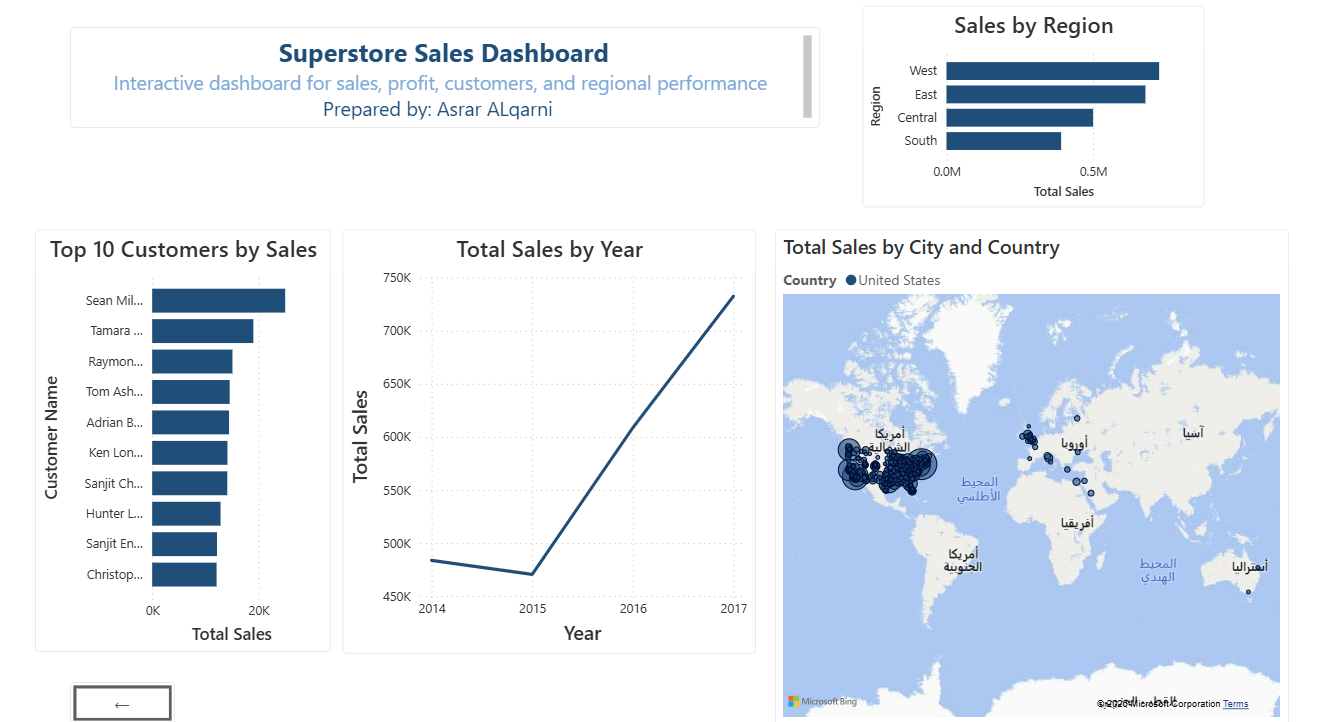

Layout of this report page (visuals, bound fields, positions):
{"tool":"powerbi","page":{"name":"Detailed Analysis","canvas":[1280,720],"ordinal":1},"visuals":[{"type":"clusteredBarChart","title":"Top 10 Customers by Sales","fields":{"Category":["Superstore_Comma.Customer Name"],"Y":["Superstore_Comma.Total Sales"]},"box":[52,226.7,281.3,402.7],"z":0},{"type":"barChart","title":"Sales by Region","fields":{"Y":["Superstore_Comma.Total Sales"],"Category":["Superstore_Comma.Region"]},"box":[840,13.3,325.3,192],"z":1000},{"type":"textbox","box":[85.3,33.3,714.7,96],"z":2000},{"type":"lineChart","fields":{"Y":["Superstore_Comma.Total Sales"],"Category":["Superstore_Comma.Year"]},"box":[345.3,226.7,393.3,404],"z":3000},{"type":"map","fields":{"Category":["Superstore_Comma.City"],"Size":["Superstore_Comma.Total Sales"],"Series":["Superstore_Comma.Country"]},"box":[757.3,226.7,489.3,472],"z":4000},{"type":"actionButton","box":[85.7,657.1,100,40],"z":7001}]}

Visuals, with their boxes on the page's 1280x720 design canvas (x1, y1, x2, y2). These are canvas units, not pixel positions in the 1324x722 screenshot, which may show the page scaled, cropped or inside an application window:
"Top 10 Customers by Sales" clusteredBarChart: bbox(52, 227, 333, 629)
"Sales by Region" barChart: bbox(840, 13, 1165, 205)
textbox: bbox(85, 33, 800, 129)
lineChart - Superstore_Comma.Total Sales x Superstore_Comma.Year: bbox(345, 227, 739, 631)
map - Superstore_Comma.City x Superstore_Comma.Total Sales: bbox(757, 227, 1247, 699)
actionButton: bbox(86, 657, 186, 697)
